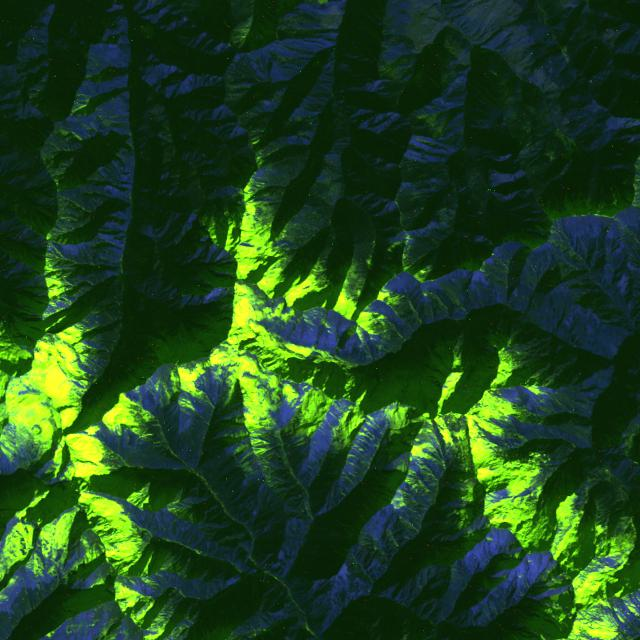landslides: (1, 426, 24, 459), (369, 473, 401, 484), (182, 390, 198, 411), (21, 566, 30, 597), (90, 122, 104, 140), (355, 444, 371, 458), (366, 428, 379, 445), (288, 440, 308, 450), (408, 508, 423, 521), (112, 6, 127, 18), (334, 401, 346, 415), (342, 471, 353, 485), (359, 431, 373, 441), (149, 378, 158, 393)
